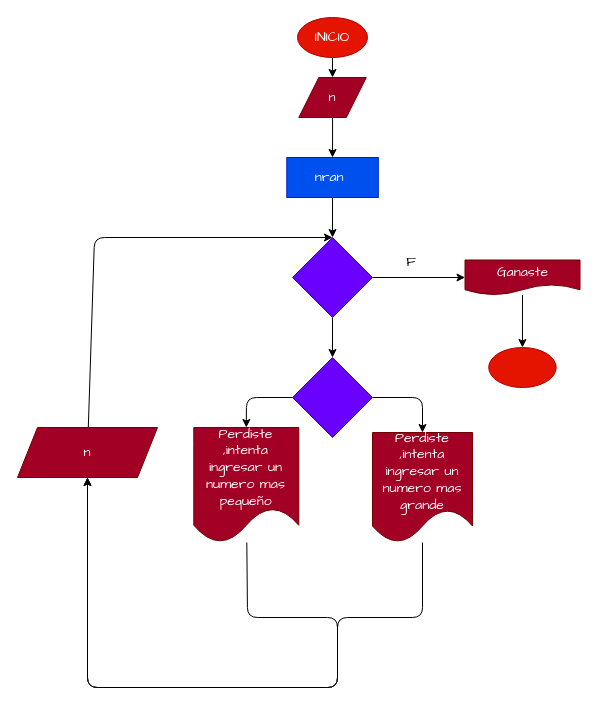
This 598x713 diagram has some shape labels left out. Here are the shapes that lost their labels. From the top down, the centre of each, then its label:
point (332, 277): n != nran
point (522, 367): FIN
point (332, 397): n < nran
